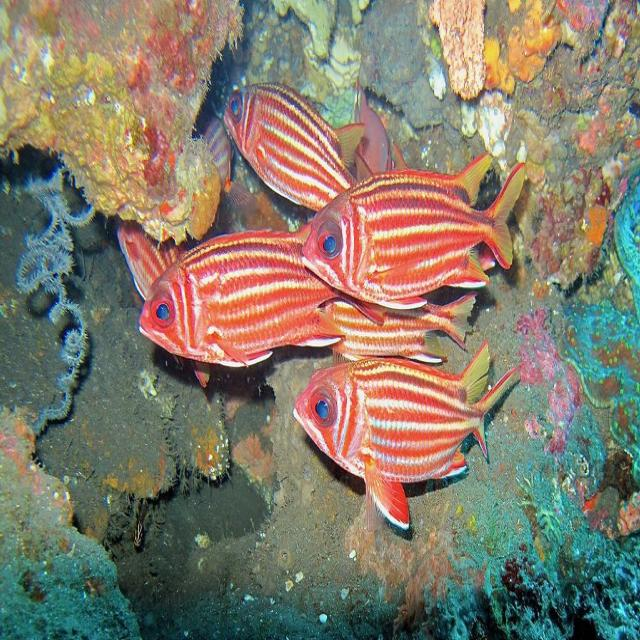Asker Baligi: (294, 323, 538, 542), (297, 145, 545, 320), (216, 55, 370, 214)
